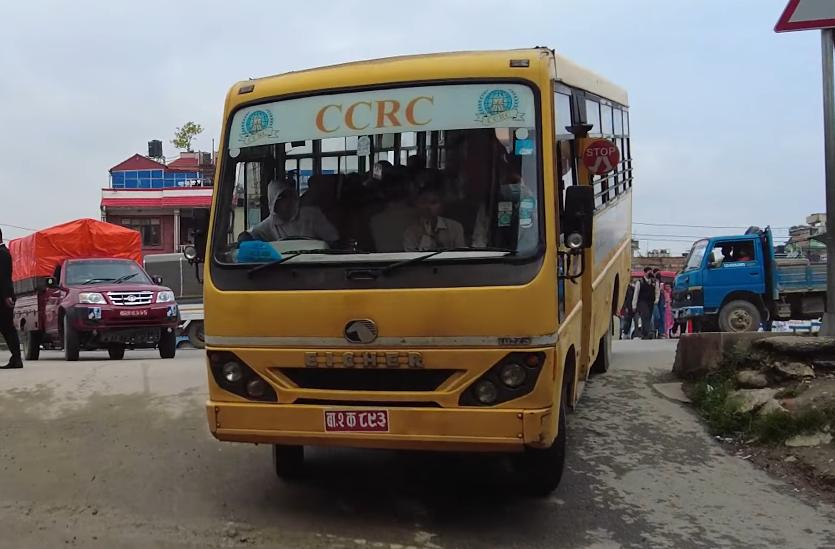mini_truck: (670, 222, 835, 337)
school_bus: (192, 38, 635, 508)
transport_vehicle: (2, 218, 182, 364)
